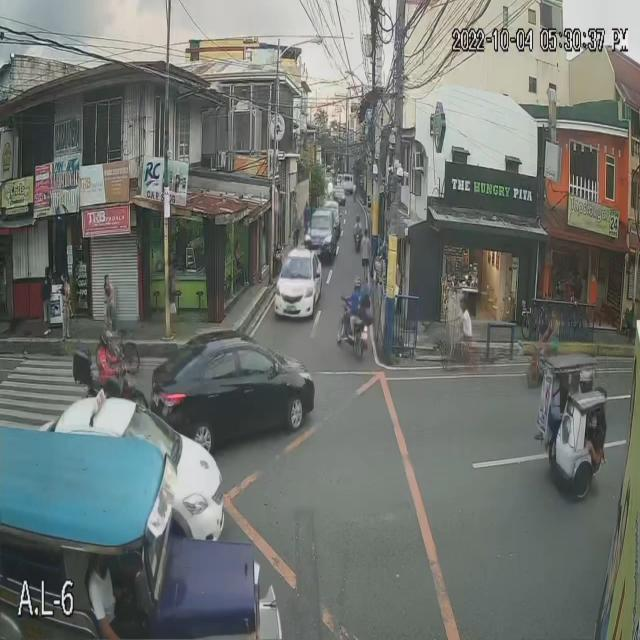Full-Faced: (99, 325, 113, 350), (360, 282, 370, 311), (355, 273, 363, 288)
